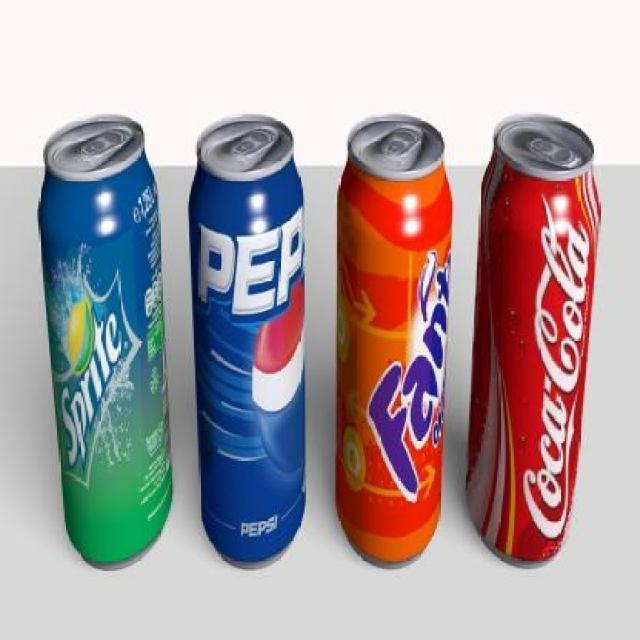metal-can: (33, 108, 176, 579), (460, 107, 603, 576), (326, 102, 457, 576), (183, 106, 312, 580)
